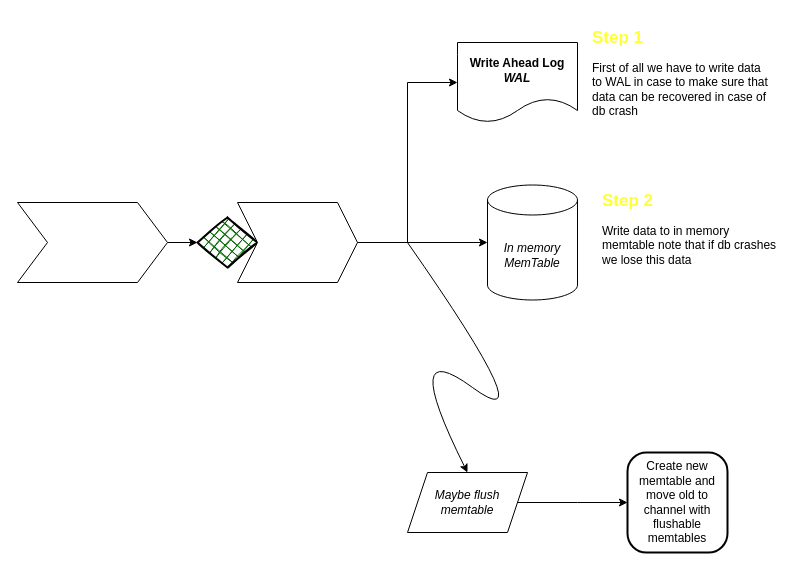
The diagram is 805 pixels wide and 570 high, and some of its shapes have lost their labels. Each missing label, with the box of its shape:
Create Batch: (236, 202, 358, 282)
PUT: (16, 202, 168, 282)
